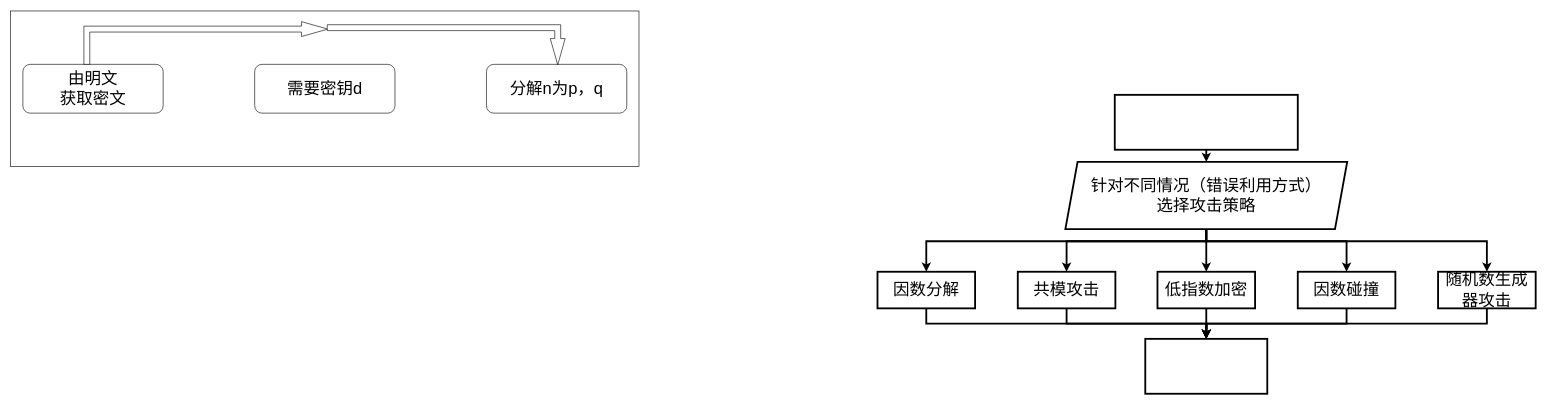
This 1547x405 diagram has some shape labels left out. The box of each missing label's shape, as (x1, y1, x2, y2) in pixels:
加密数据的提取与利用: (1114, 94, 1298, 150)
获得原文: (1144, 338, 1268, 394)
